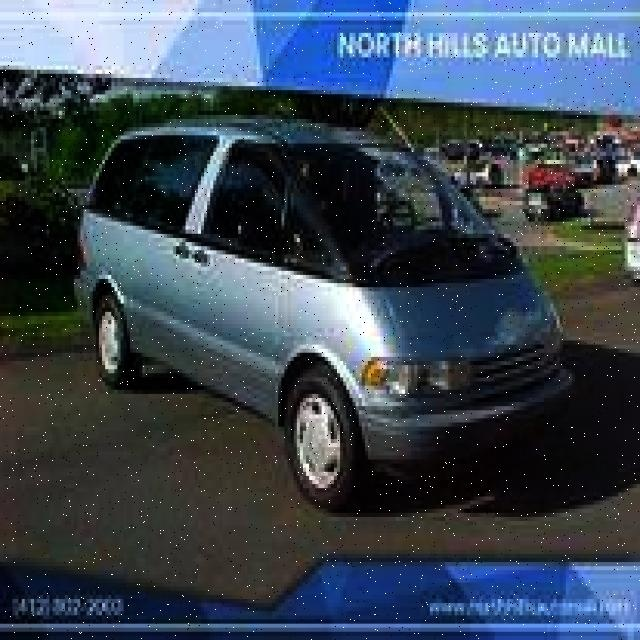Van: (71, 115, 600, 509)
